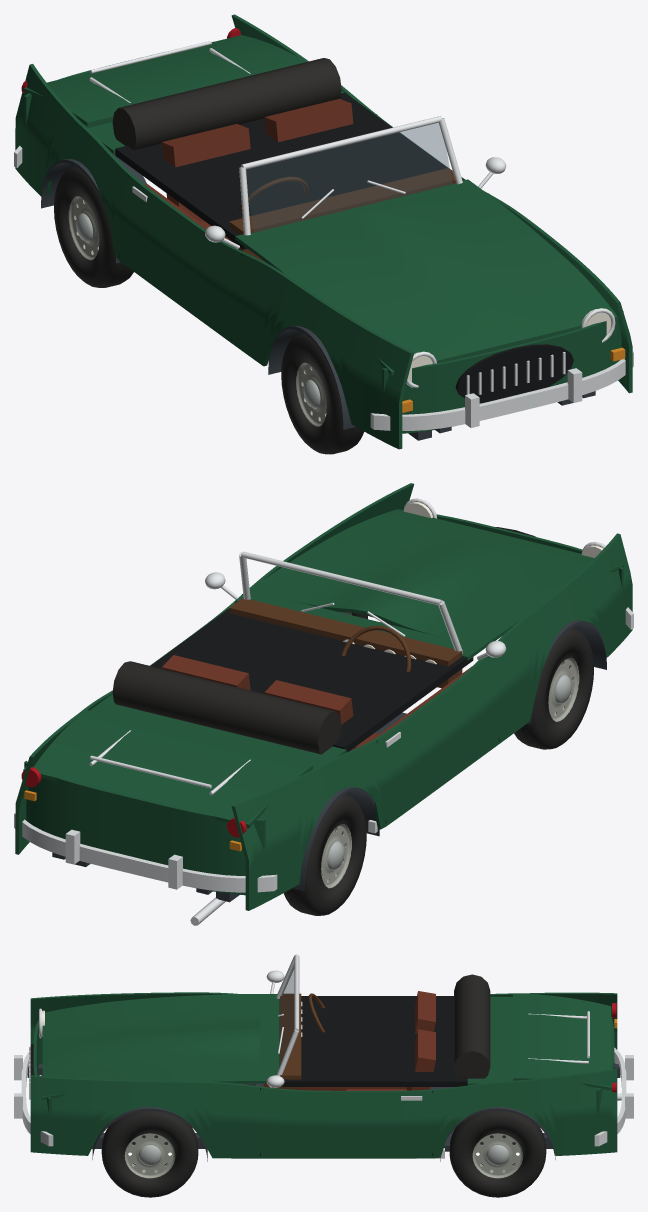
The model's file is linnet.glb.
3 views of the same model, one above another, from view 1: azimuth 30°, elevation 25°; view 2: azimuth 150°, elevation 25°; view 3: azimuth 270°, elevation 25° (orthographic). The views are drawn at different scales.
Parts seen in each view (by area): view 1: panel_hoodLinnet, Interior Linnet CockpitRoll, panel_FrontWingLLinnet, glass_FrontLinnet, panel_BodyDoorLLinnet, panel_LinnetFoldedHood, panel_BootLinnet, panel_RearQuarterLLinnet, panel_LinnetfrontValance, Tire_Marten_Carcass_FL, Tire_Marten_Carcass_RL, panel_LinnetGrille (+12 smaller); view 2: panel_hoodLinnet, panel_BootLinnet, Interior Linnet CockpitRoll, panel_LinnetrearValance, panel_BodyDoorLLinnet, panel_FrontWingLLinnet, panel_LinnetFoldedHood, panel_RearQuarterLLinnet, Tire_Marten_Carcass_RL, Tire_Marten_Carcass_FL, Interior Linnet Dashboard, panel_bumper_rearLinnet (+12 smaller); view 3: panel_hoodLinnet, panel_FrontWingRLinnet, Interior Linnet CockpitRoll, panel_BodyDoorRLinnet, panel_RearQuarterRLinnet, panel_BootLinnet, Tire_Marten_Carcass_FR, Tire_Marten_Carcass_RR, panel_LinnetFoldedHood, panel_LinnetRearDeck, panel_FrontWingLLinnet, panel_LinnetScuttle (+15 smaller).
Part boxes in pixels (x1,y1,x2,y2): panel_hoodLinnet: [249, 189, 618, 375]; Interior Linnet CockpitRoll: [115, 92, 463, 249]; panel_FrontWingLLinnet: [232, 253, 414, 449]; glass_FrontLinnet: [246, 123, 452, 231]; panel_BodyDoorLLinnet: [119, 174, 245, 343]; panel_LinnetFoldedHood: [112, 58, 341, 149]; panel_BootLinnet: [23, 35, 305, 126]; panel_RearQuarterLLinnet: [15, 64, 131, 260]; panel_LinnetfrontValance: [382, 311, 623, 433]; Tire_Marten_Carcass_FL: [281, 332, 363, 454]; Tire_Marten_Carcass_RL: [54, 166, 133, 287]; panel_LinnetGrille: [455, 344, 573, 402]; panel_hoodLinnet: [250, 509, 624, 650]; panel_BootLinnet: [23, 710, 313, 828]; Interior Linnet CockpitRoll: [151, 608, 473, 752]; panel_LinnetrearValance: [24, 761, 265, 895]; panel_BodyDoorLLinnet: [373, 656, 498, 826]; panel_FrontWingLLinnet: [489, 533, 632, 743]; panel_LinnetFoldedHood: [112, 661, 341, 754]; panel_RearQuarterLLinnet: [231, 739, 385, 910]; Tire_Marten_Carcass_RL: [283, 794, 366, 915]; Tire_Marten_Carcass_FL: [514, 627, 593, 749]; Interior Linnet Dashboard: [229, 597, 462, 688]; panel_bumper_rearLinnet: [14, 812, 277, 892]; panel_hoodLinnet: [42, 994, 260, 1099]; panel_FrontWingRLinnet: [30, 1075, 260, 1158]; Interior Linnet CockpitRoll: [281, 996, 467, 1086]; panel_BodyDoorRLinnet: [260, 1086, 432, 1158]; panel_RearQuarterRLinnet: [433, 1068, 617, 1158]; panel_BootLinnet: [513, 994, 611, 1090]; Tire_Marten_Carcass_FR: [101, 1110, 198, 1197]; Tire_Marten_Carcass_RR: [449, 1110, 546, 1197]; panel_LinnetFoldedHood: [454, 974, 490, 1078]; panel_LinnetRearDeck: [467, 996, 512, 1085]; panel_FrontWingLLinnet: [30, 992, 237, 1044]; panel_LinnetScuttle: [260, 994, 279, 1083].
Size of the model in its own units: 1.74 by 1.18 by 4.1.
